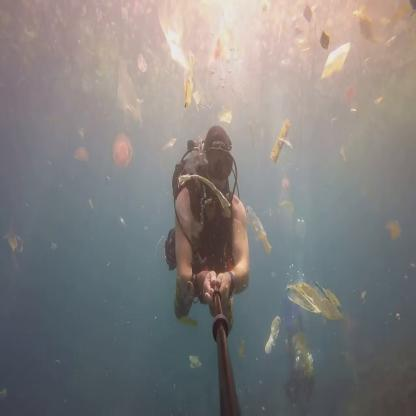Rác: (284, 276, 345, 326), (270, 117, 298, 168), (319, 39, 355, 77), (247, 204, 271, 248), (355, 8, 377, 42), (181, 53, 195, 106), (70, 132, 90, 168), (109, 137, 132, 167), (266, 319, 278, 348), (300, 4, 316, 21), (133, 54, 149, 70)
